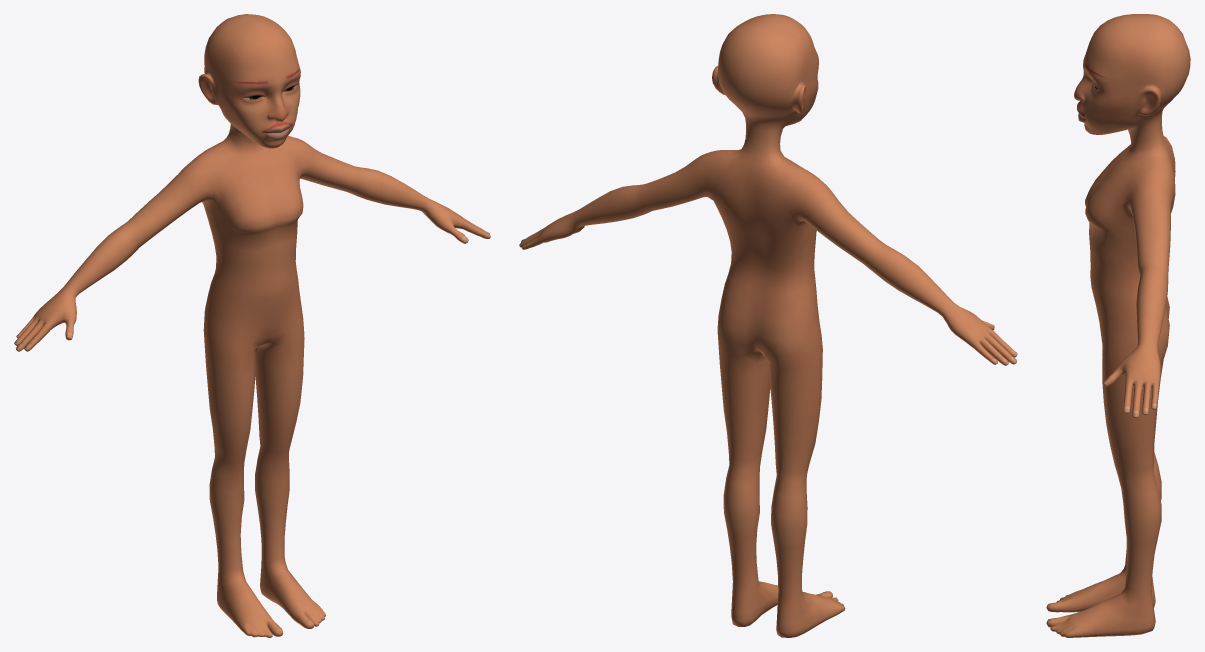
The model's file is frame_0063.glb.
The picture shows the model from 3 angles, left to right: view 1: azimuth 30°, elevation 25°; view 2: azimuth 150°, elevation 25°; view 3: azimuth 270°, elevation 25°; orthographic projection. The views are drawn at different scales.
Parts seen in each view (by area): view 1: frame_0063_head_geo; view 2: frame_0063_head_geo; view 3: frame_0063_head_geo.
Boxes of the visible parts, bbox=[...] form: frame_0063_head_geo: bbox=[14, 14, 490, 637]; frame_0063_head_geo: bbox=[519, 14, 1017, 637]; frame_0063_head_geo: bbox=[1046, 14, 1190, 637].
Bounding box in the file's own units: 1.28 × 1.5 × 0.3253.
3 materials, 3 textured.
